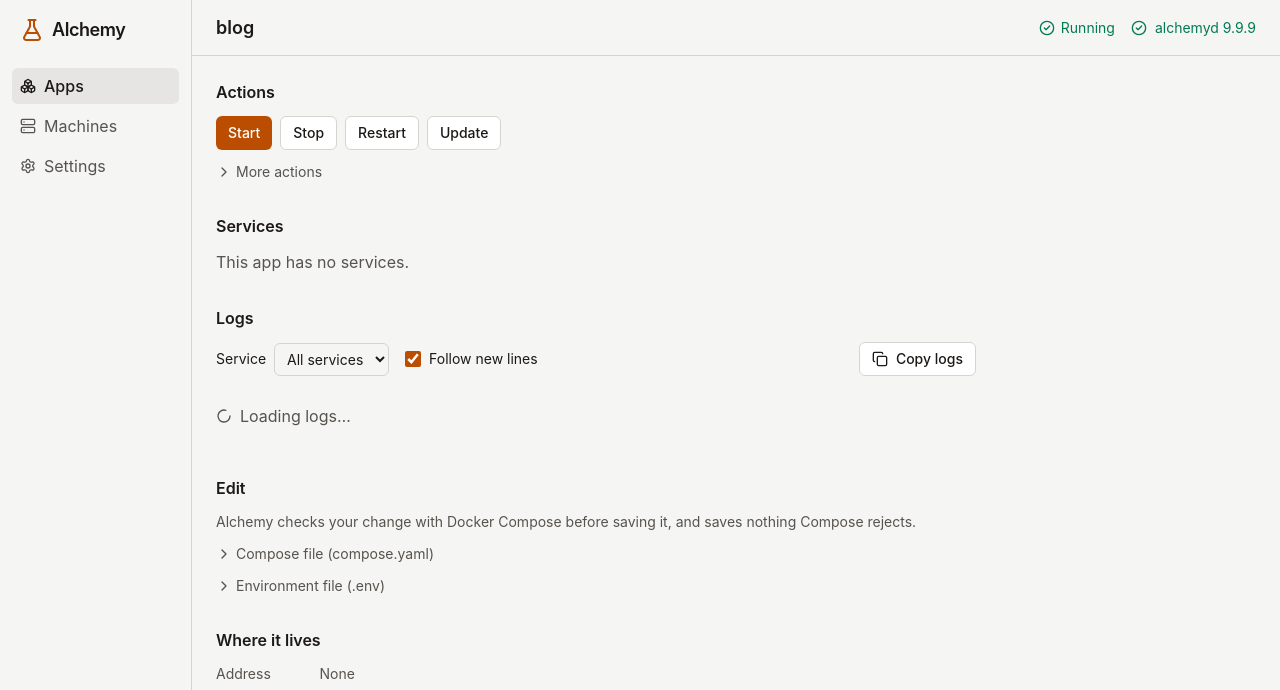
Scenario: App actions › says why alchemyd refused an action
Check: the navigation bar named "Main" is shown, box x1=12 y1=68 x2=179 y2=184
Click the button "Restart" at (382, 133), box x1=345 y1=116 x2=419 y2=150
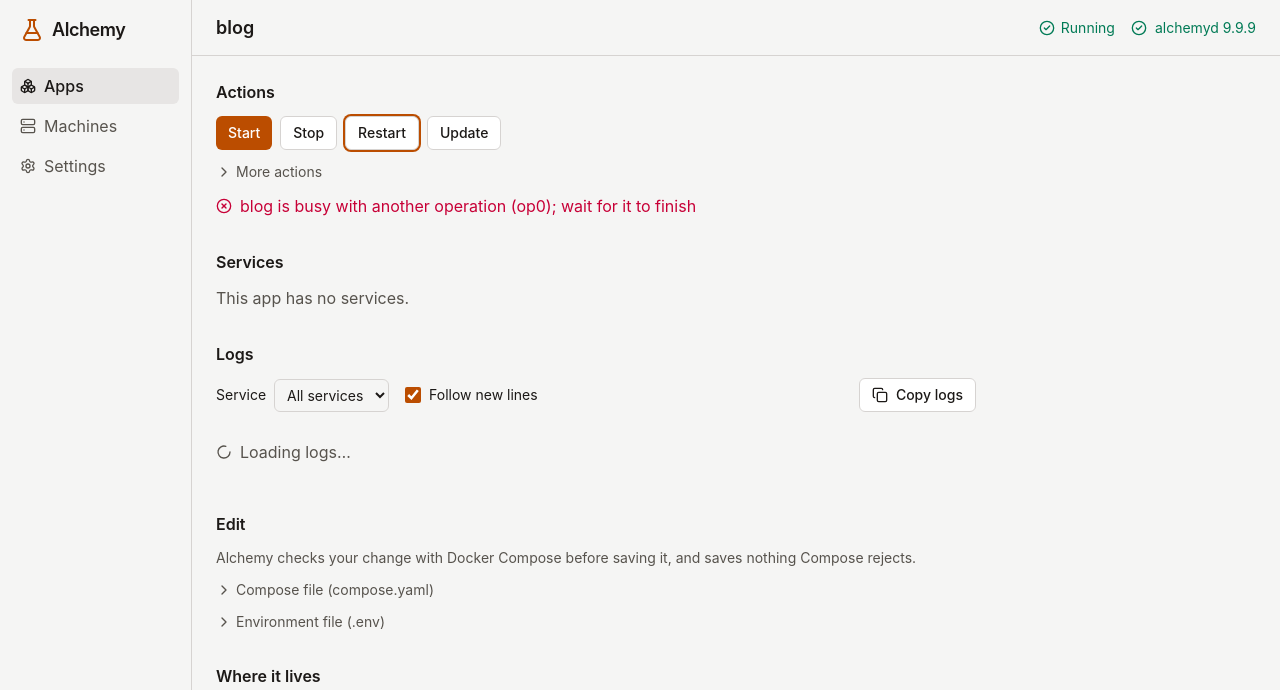
Check: the text "blog is busy" is shown, box x1=240 y1=196 x2=696 y2=216
